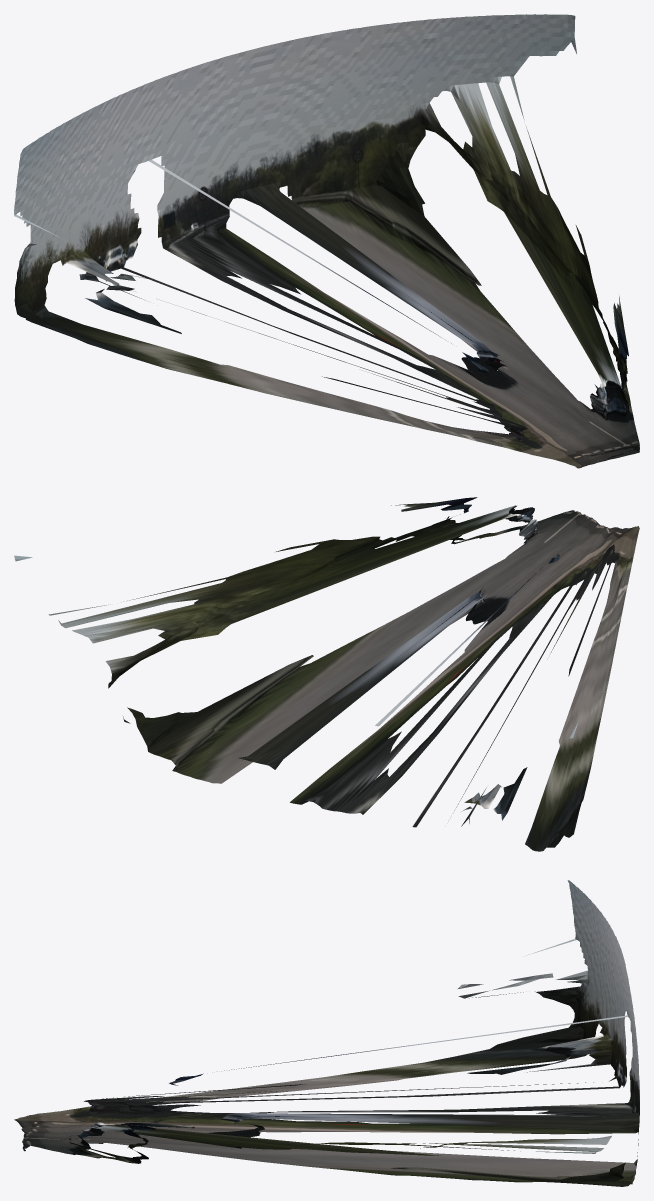
3 views of the same model, one above another, from view 1: azimuth 30°, elevation 25°; view 2: azimuth 150°, elevation 25°; view 3: azimuth 270°, elevation 25° (orthographic). The views are drawn at different scales.
Visible parts, largest first — view 1: defaultobject; view 2: defaultobject; view 3: defaultobject.
Part boxes in pixels (box(x1,y1,x2,y2)): defaultobject: box(14, 14, 639, 468); defaultobject: box(14, 497, 639, 851); defaultobject: box(14, 880, 639, 1186).
Bounding box in the file's own units: 40.89 × 13.64 × 44.76.
1 material, 1 textured.
